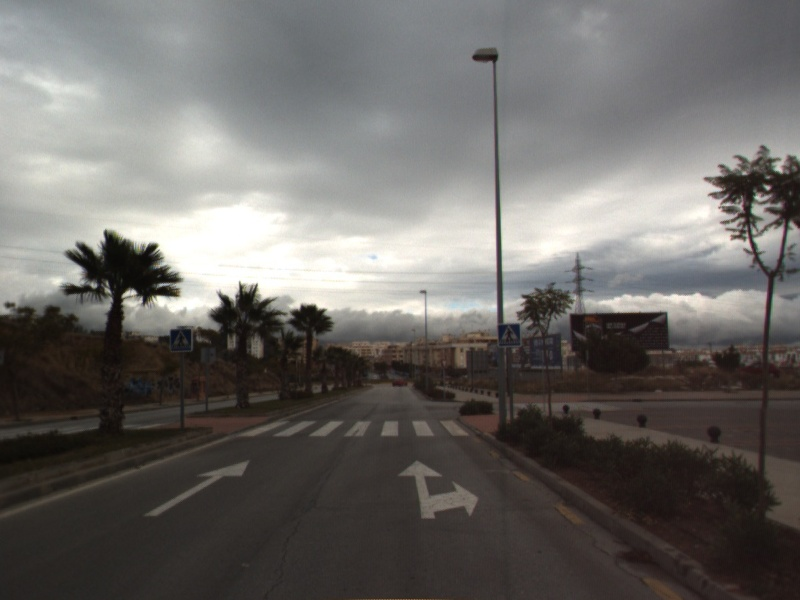STRAIGHT: (142, 458, 252, 518)
STRAIGHT_RIGHT: (395, 458, 481, 521)
